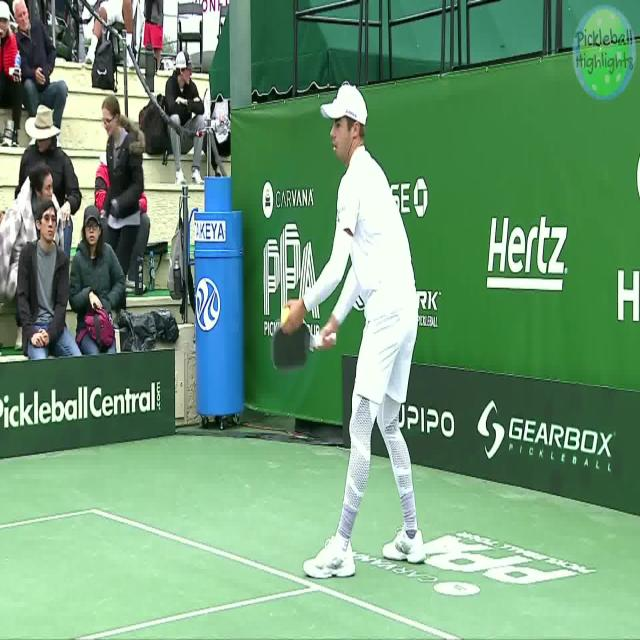ball: (280, 304, 295, 328)
